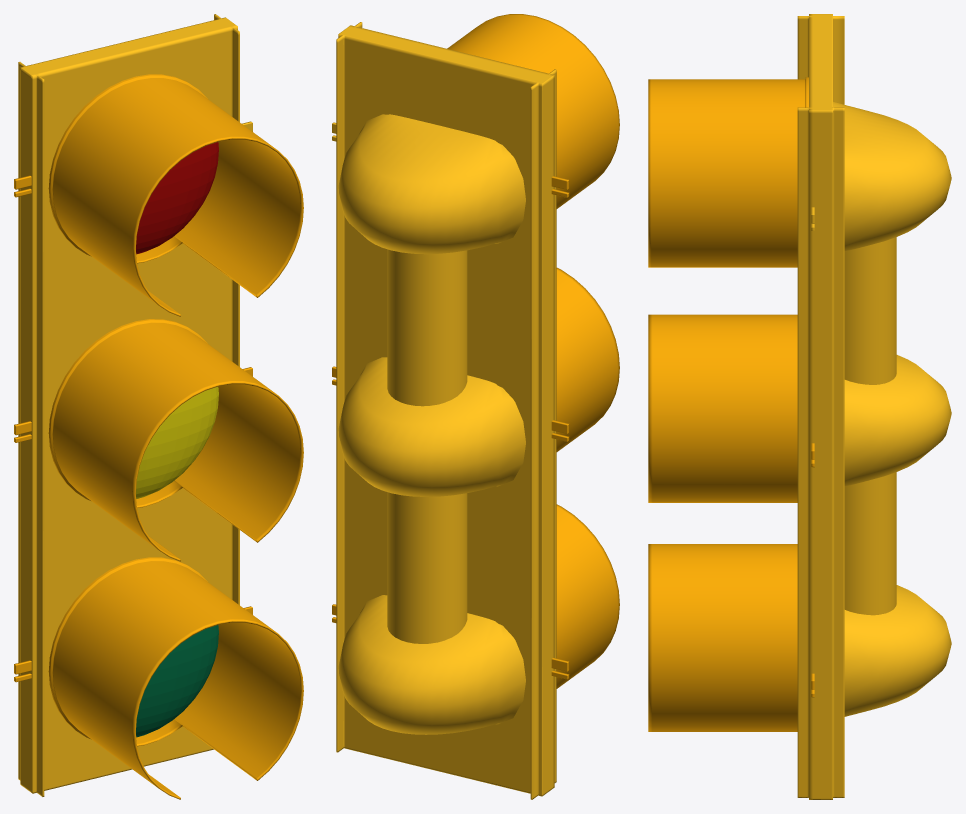
File: Traffic Light2.fbx
3 renders of one model, left to right at view 1: azimuth 30°, elevation 25°; view 2: azimuth 150°, elevation 25°; view 3: azimuth 270°, elevation 25°, orthographic. The views are drawn at different scales.
Visible parts, largest first — view 1: Base_LOD0, Lights; view 2: Base_LOD0; view 3: Base_LOD0.
Boxes of the visible parts, <box> form: Base_LOD0: <box>14,14,303,799</box>; Lights: <box>136,142,218,737</box>; Base_LOD0: <box>332,14,619,799</box>; Base_LOD0: <box>648,14,951,799</box>.
Size of what is drawn, in the model's own units: 67.31 by 195 by 77.67.
